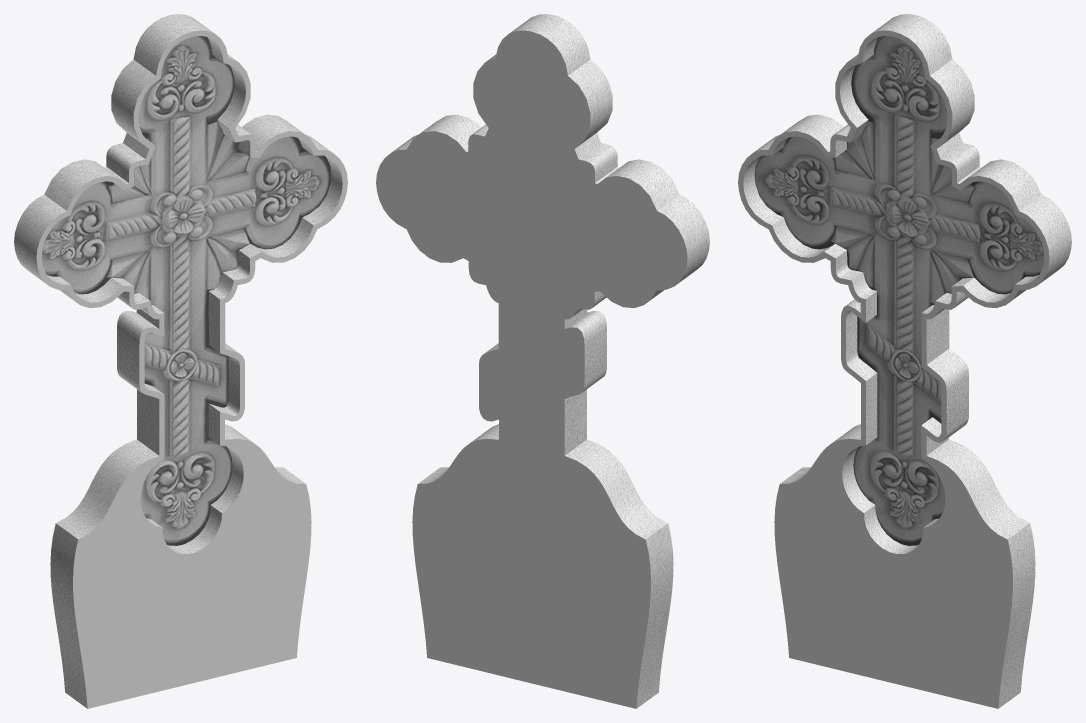
The model's file is cn472e48384d_tkf.glb.
3 views of the same model, side by side, from view 1: azimuth 30°, elevation 25°; view 2: azimuth 150°, elevation 25°; view 3: azimuth 330°, elevation 25° (orthographic).
Parts seen in each view (by area): view 1: Pam-d01-094_2_notexture, Pam-d01-094; view 2: Pam-d01-094, Pam-d01-094_2_notexture; view 3: Pam-d01-094_2_notexture, Pam-d01-094.
Part boxes in pixels (x1,y1,x2,y2): Pam-d01-094_2_notexture: [14, 14, 342, 708]; Pam-d01-094: [36, 30, 347, 708]; Pam-d01-094: [376, 30, 687, 708]; Pam-d01-094_2_notexture: [391, 14, 709, 708]; Pam-d01-094_2_notexture: [743, 14, 1071, 708]; Pam-d01-094: [738, 30, 1049, 708].
Size of the model in its own units: 0.4 by 0.8 by 0.05.
Materials: 1 (1 with a texture image).
